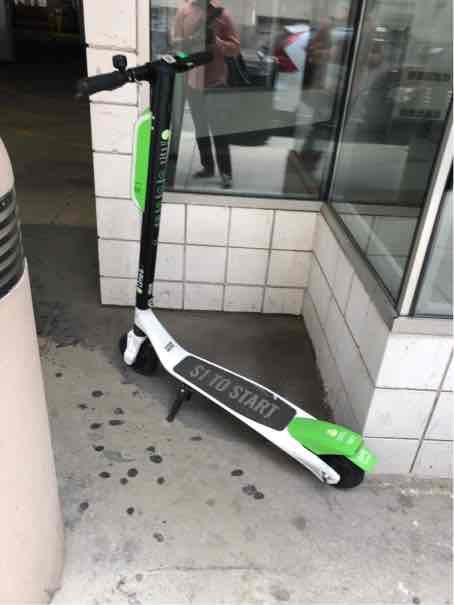scooter: (72, 37, 376, 491)
